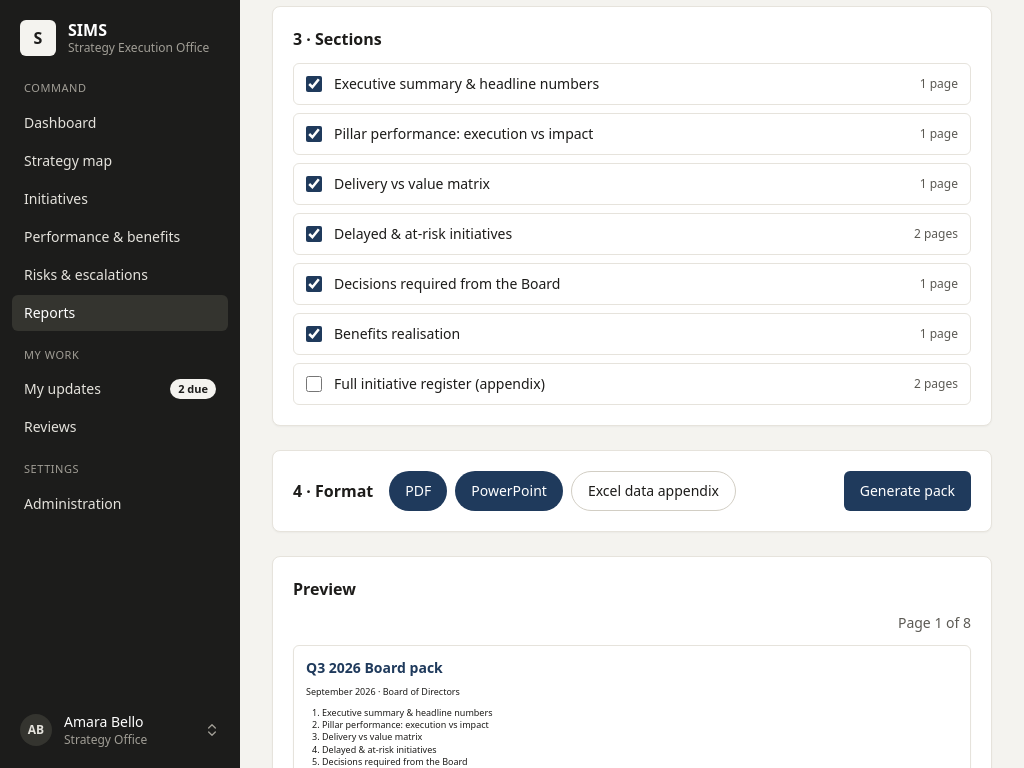
Test: Board pack builder › updates the page count as sections are ticked
(page scrolled)
Check: the text "Page 1 of 8" is shown, box [898,613,971,632]
Click the checkbox labelled "Full initiative register (appendix) 2 pages": [314, 384] box [306,376,322,392]
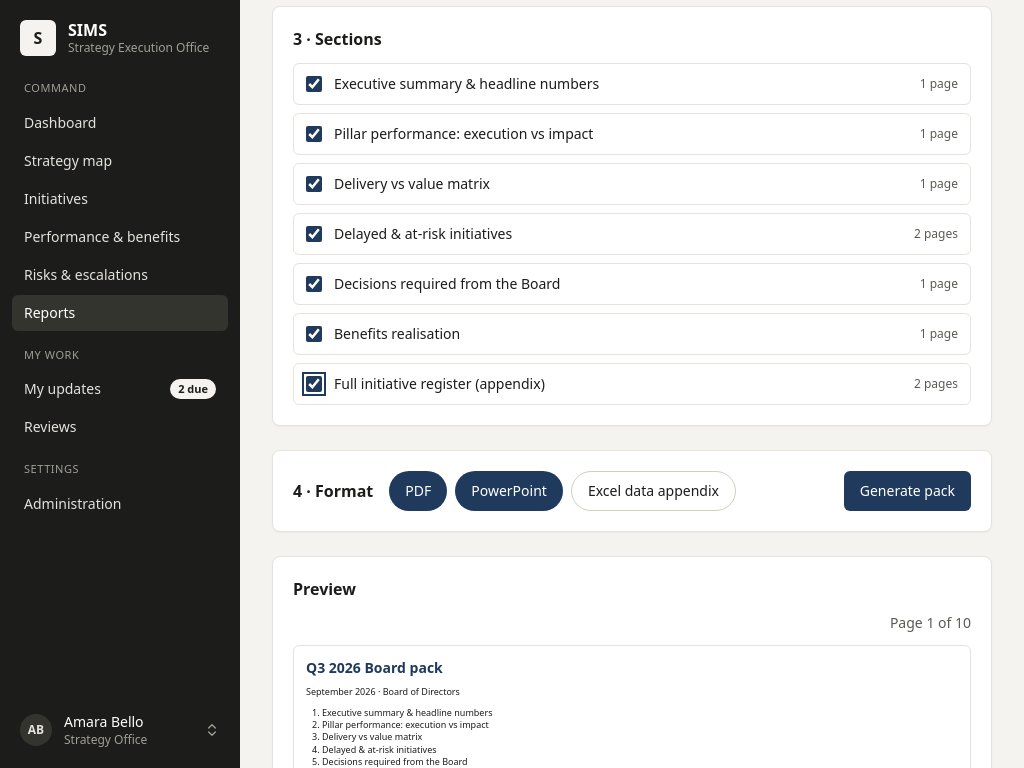
Check: the text "Page 1 of 10" is shown, box [890,613,971,632]
Click the checkbox labelled "Benefits realisation 1 page": [314, 334] box [306,326,322,342]
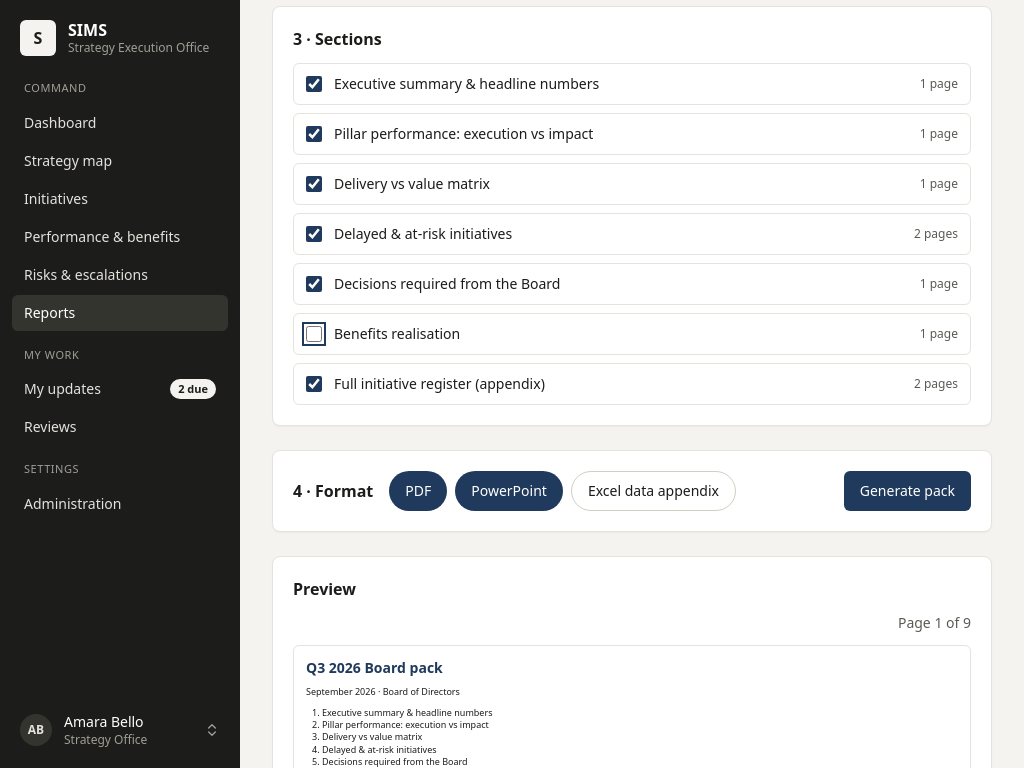
Check: the text "Page 1 of 9" is shown, box [898,613,971,632]
